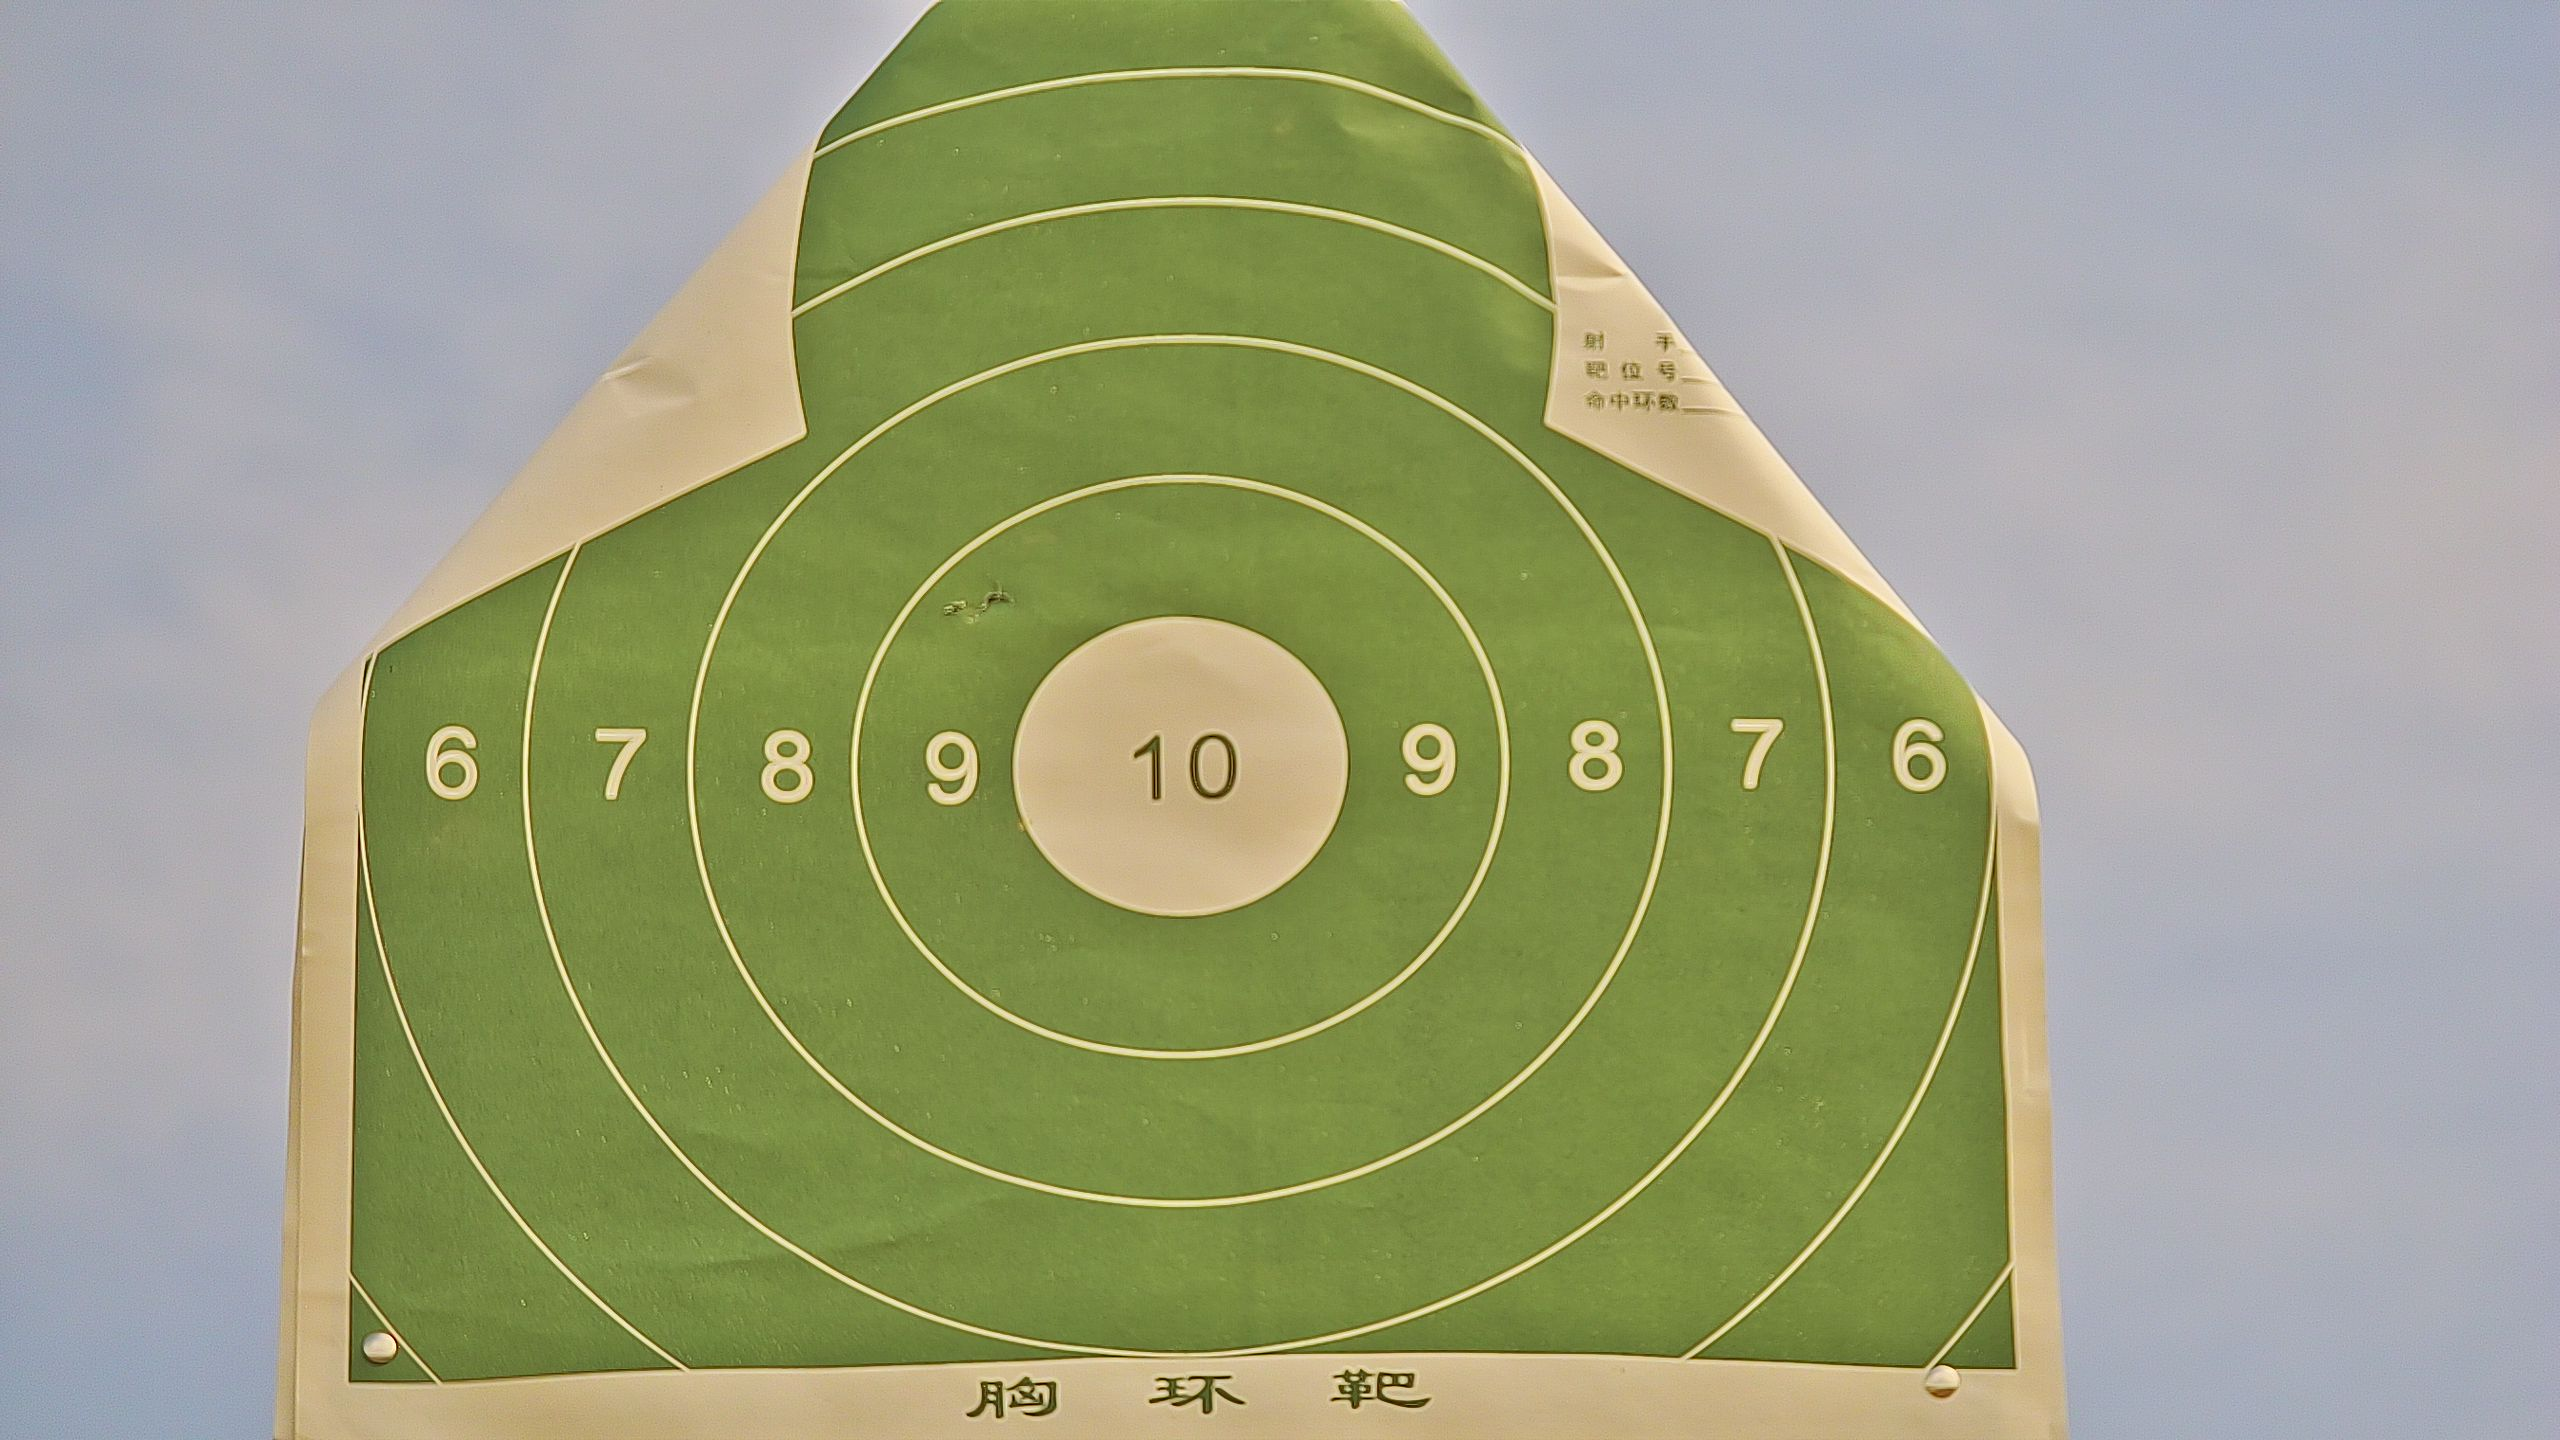kernel: (1173, 768, 1178, 772)
target: (352, 11, 2017, 1393)
ten: (1006, 608, 1354, 916)
